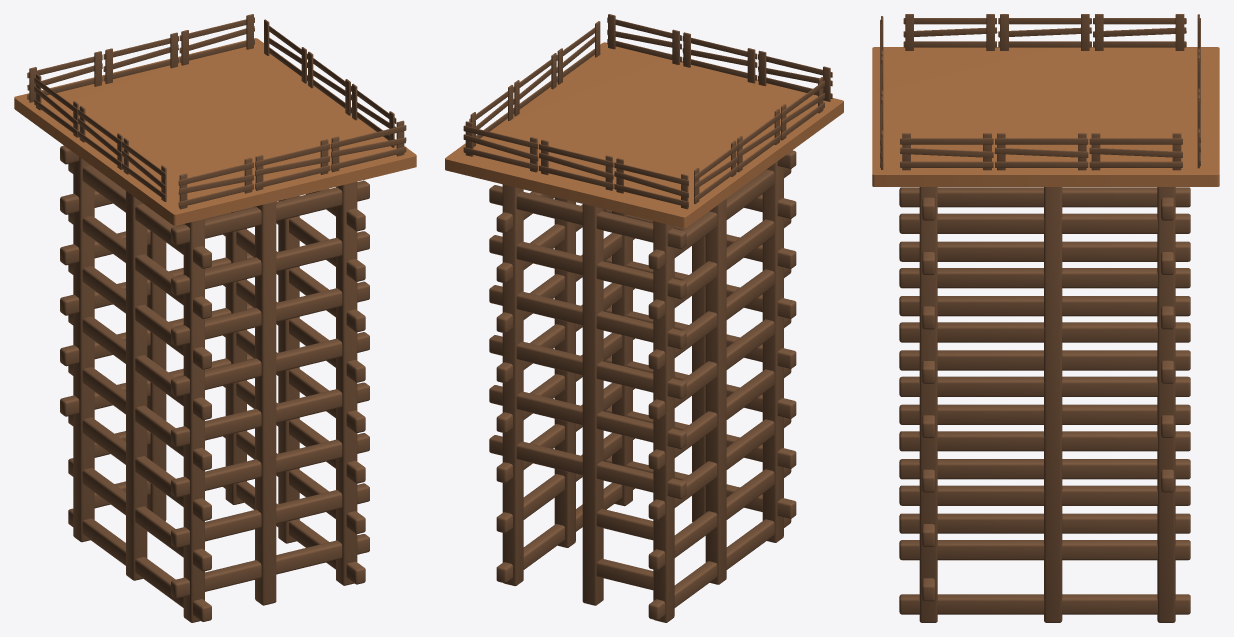
The model's file is Tower_1_scale2.fbx.
The picture shows the model from 3 angles, left to right: view 1: azimuth 30°, elevation 25°; view 2: azimuth 150°, elevation 25°; view 3: azimuth 270°, elevation 25°; orthographic projection. The views are drawn at different scales.
Visible parts, largest first — view 1: Tower_1; view 2: Tower_1; view 3: Tower_1.
Boxes of the visible parts, x1,y1,x2,y2 form: Tower_1: (14, 14, 416, 622); Tower_1: (445, 14, 843, 622); Tower_1: (872, 14, 1219, 622).
Bounding box in the file's own units: 4653 × 8561 × 5339.
